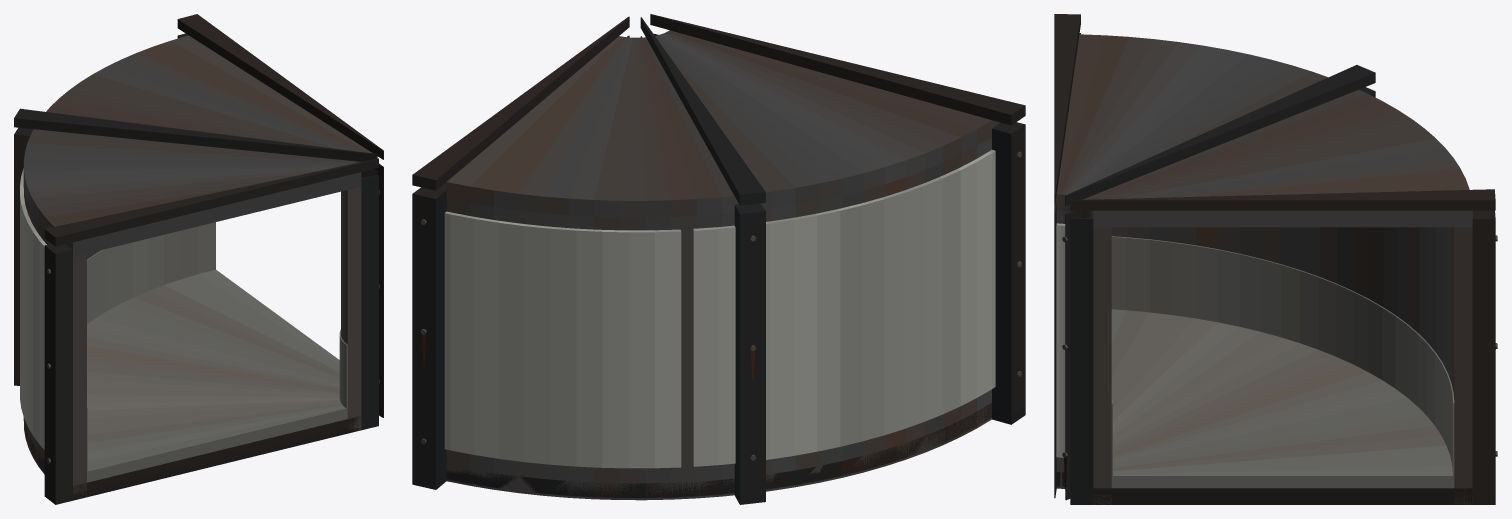
Rendered from chute_h_turn_right.glb.
The picture shows the model from 3 angles, left to right: view 1: azimuth 30°, elevation 25°; view 2: azimuth 150°, elevation 25°; view 3: azimuth 270°, elevation 25°; orthographic projection. The views are drawn at different scales.
Visible parts, largest first — view 1: Frame; view 2: Frame; view 3: Frame.
Part boxes in pixels (box(x1,y1,x2,y2)): Frame: box(14, 14, 383, 504); Frame: box(412, 14, 1025, 504); Frame: box(1054, 14, 1497, 504).
Size of the model in its own units: 1.94 by 1.47 by 1.94.
